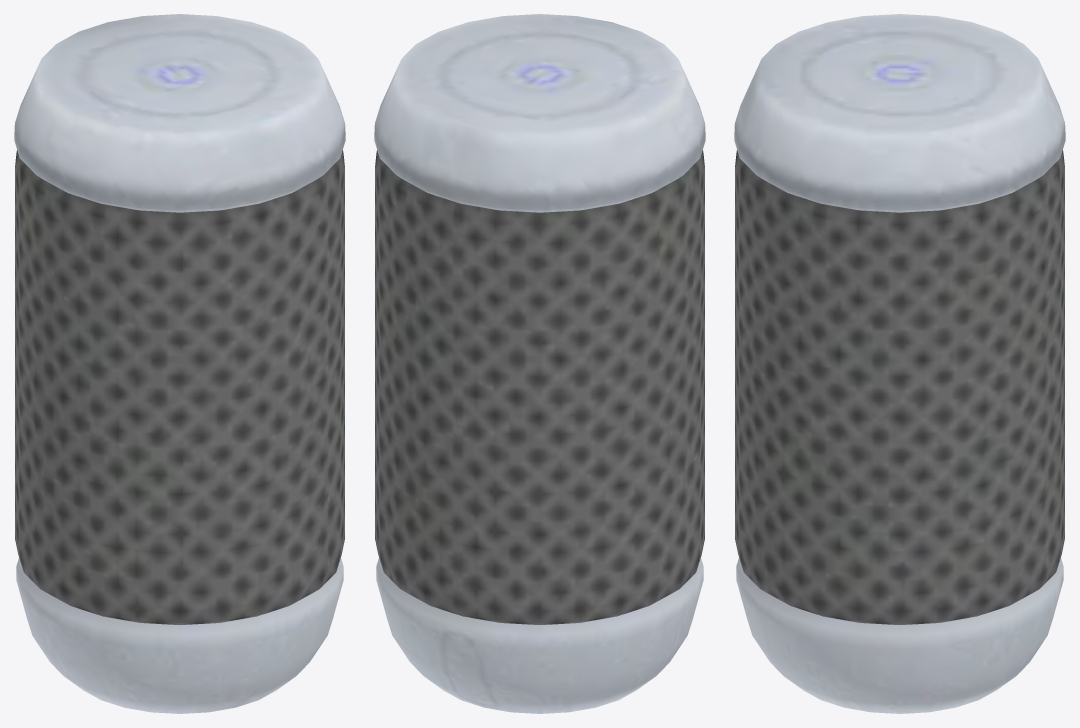
The picture shows the model from 3 angles, left to right: view 1: azimuth 30°, elevation 25°; view 2: azimuth 150°, elevation 25°; view 3: azimuth 270°, elevation 25°; orthographic projection.
Bounding box in the file's own units: 2.68 × 5.28 × 2.68.
Materials: 1 (1 with a texture image).
